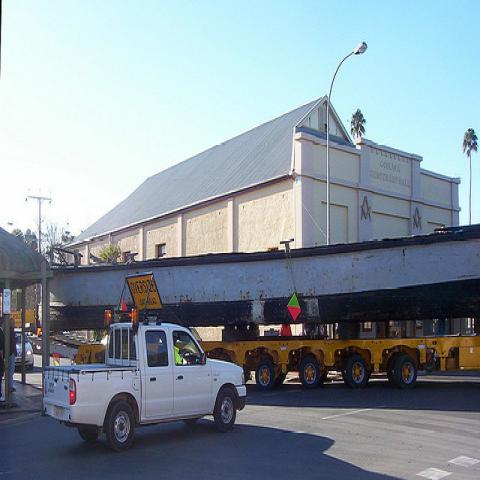car: (14, 329, 34, 371)
truck: (42, 272, 247, 450), (197, 332, 480, 393)
